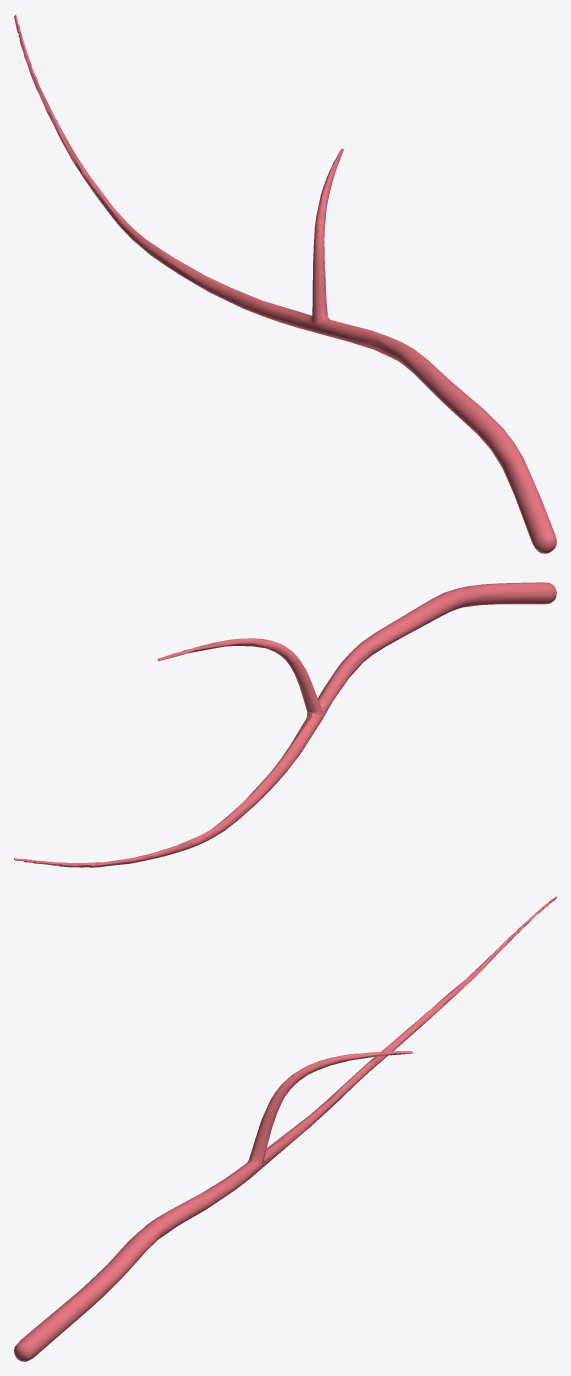
The model's file is fma50362_fj1671m.glb.
The picture shows the model from 3 angles, top to bottom: view 1: azimuth 30°, elevation 25°; view 2: azimuth 150°, elevation 25°; view 3: azimuth 330°, elevation 25°; orthographic projection. The views are drawn at different scales.
Parts seen in each view (by area): view 1: FMA50362_FJ1671M; view 2: FMA50362_FJ1671M; view 3: FMA50362_FJ1671M.
Boxes of the visible parts, x1,y1,x2,y2 form: FMA50362_FJ1671M: (14, 15, 556, 553); FMA50362_FJ1671M: (14, 582, 556, 867); FMA50362_FJ1671M: (14, 896, 556, 1361).
Bounding box in the file's own units: 0.00752 × 0.00792 × 0.0543.
